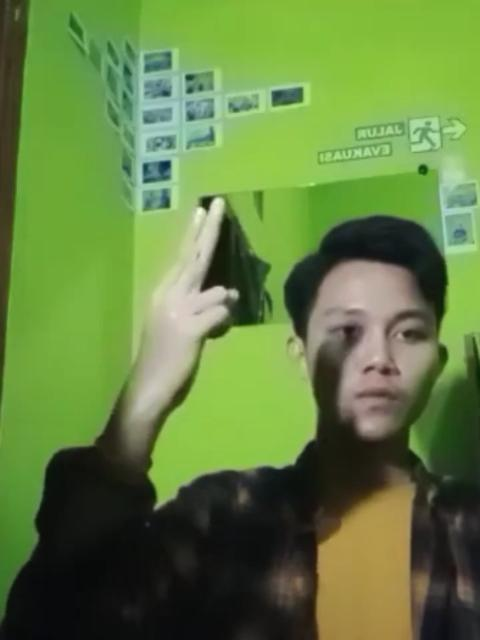U: (119, 186, 255, 412)
